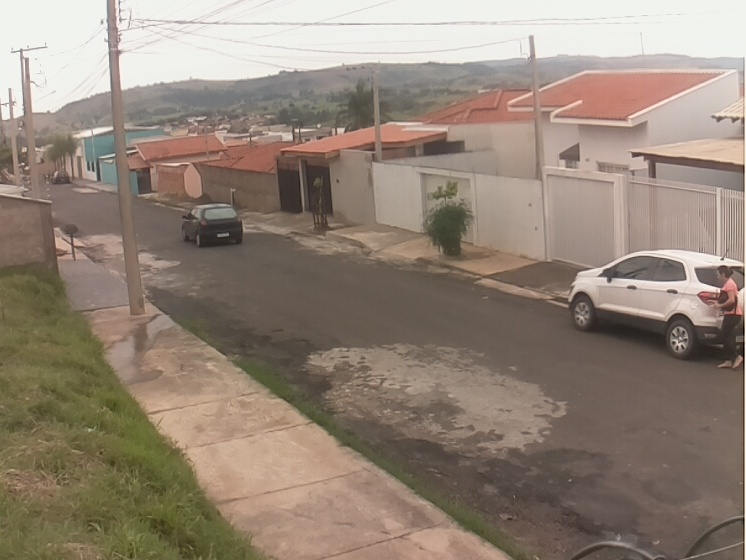person: (707, 264, 746, 371)
